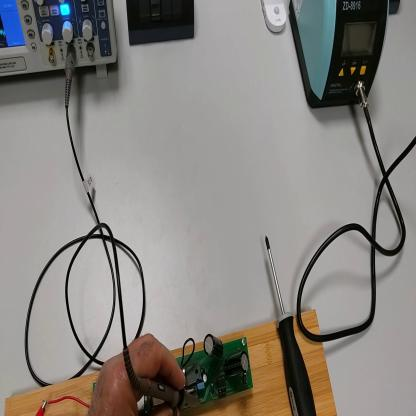hand: (91, 335, 187, 415)
high voltage board: (137, 333, 254, 415)
oscilloscope: (2, 3, 122, 87)
oscilloscope probe tip: (122, 347, 202, 411)
screwdriver-: (267, 237, 317, 414)
welder station: (287, 3, 390, 110)
working area: (5, 307, 338, 414)
